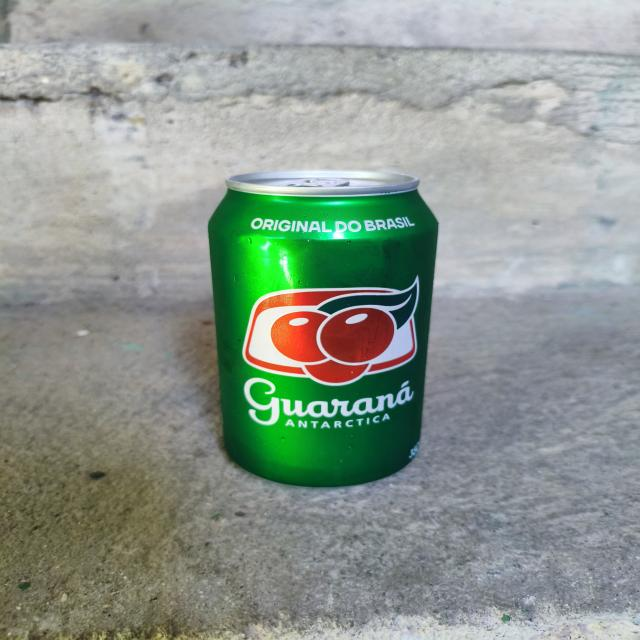Guarana: (192, 155, 447, 489)
